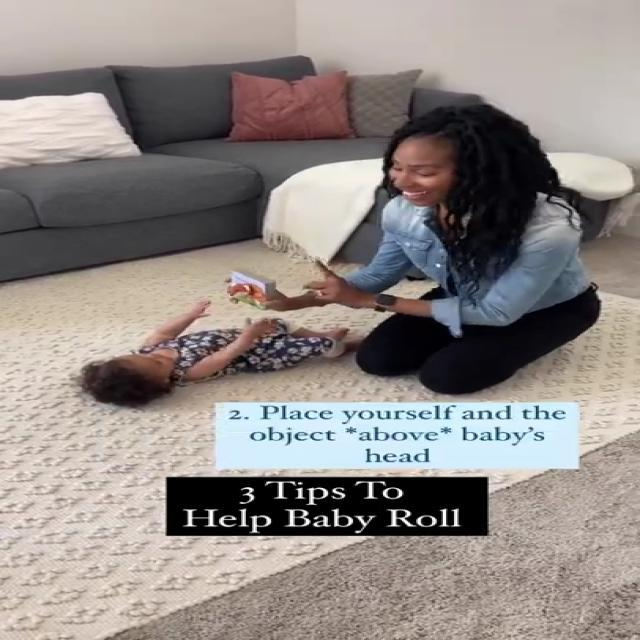baby: (70, 301, 361, 405)
